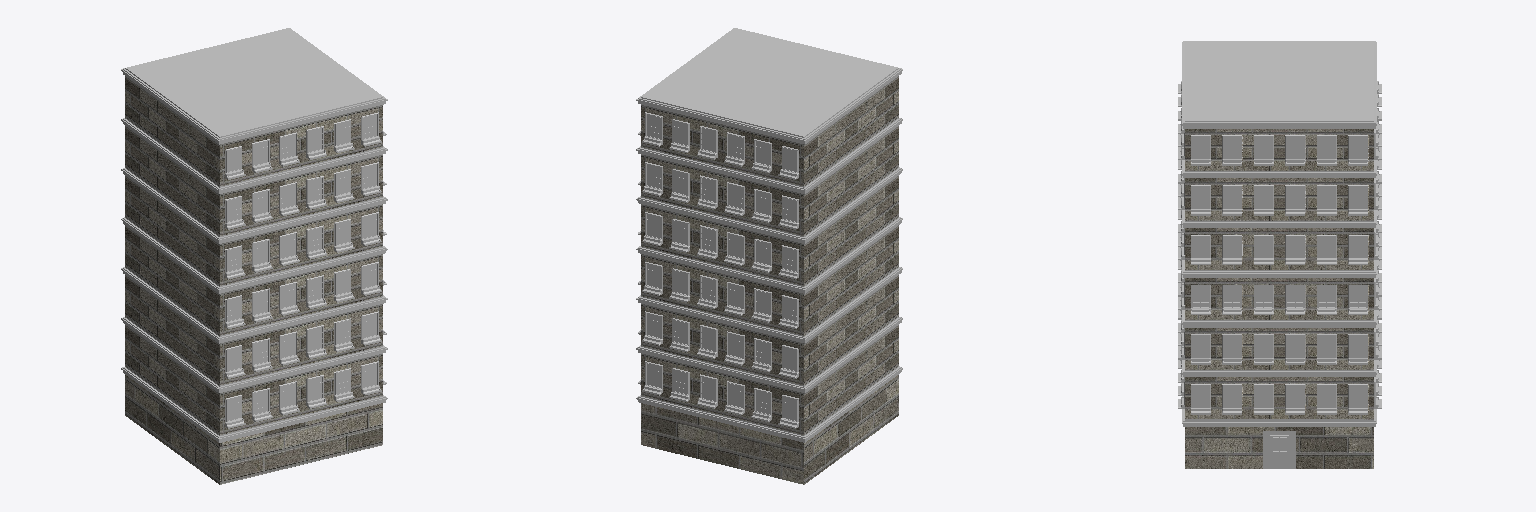
3 views of the same model, side by side, from view 1: azimuth 30°, elevation 25°; view 2: azimuth 150°, elevation 25°; view 3: azimuth 270°, elevation 25° (orthographic).
Parts seen in each view (by area): view 1: Prédio2_Cube.006; view 2: Prédio2_Cube.006; view 3: Prédio2_Cube.006.
Boxes of the visible parts, x1,y1,x2,y2 form: Prédio2_Cube.006: [121, 28, 387, 484]; Prédio2_Cube.006: [636, 28, 902, 484]; Prédio2_Cube.006: [1178, 41, 1381, 468].
Bounding box in the file's own units: 11.69 × 22.56 × 11.92.
Materials: 4 (1 with a texture image).